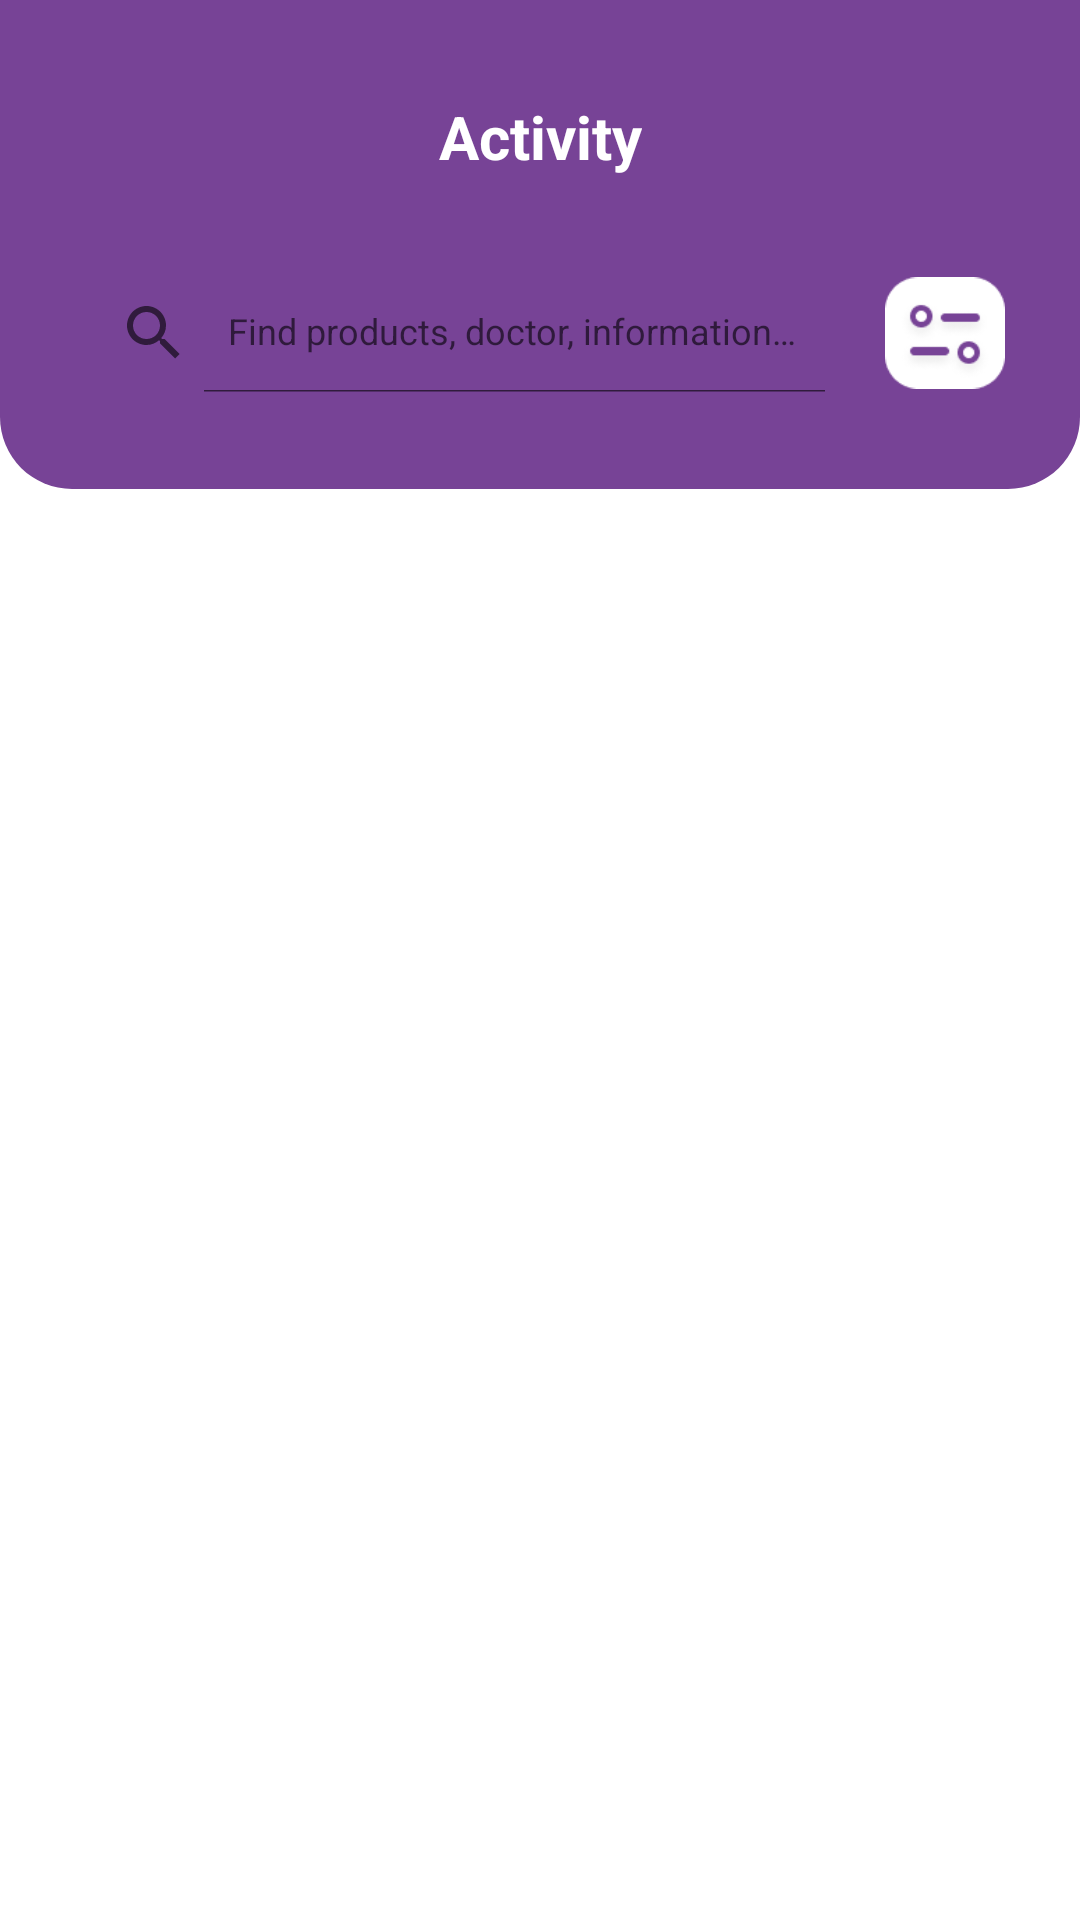

Icons on this 1080px x 1920px Android screen, each with the point to tap as [x,y]:
filter: [945,333]
